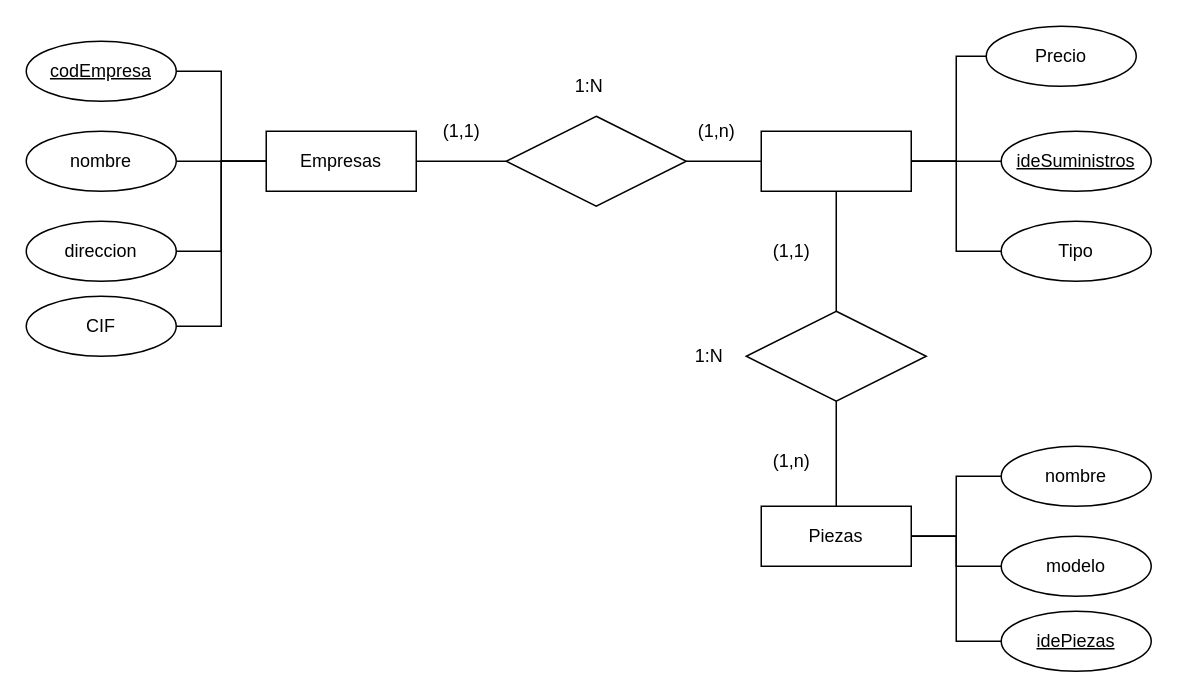
Some shapes in this 1178 by 698 pixel diagram are drawn without their labels. Each missing label, with the centre of its shape:
Contienen: point 835,355
enviar: point 595,160
Suministros: point 835,160
